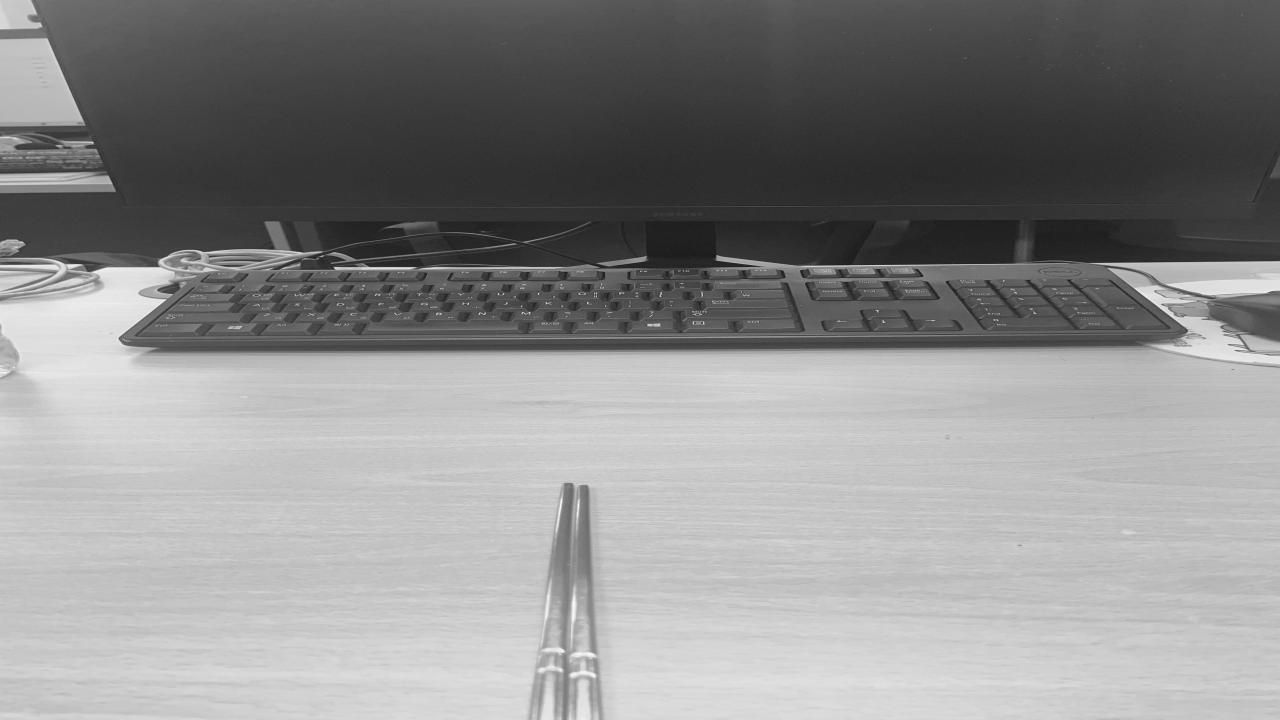chopstick: (531, 482, 599, 720)
